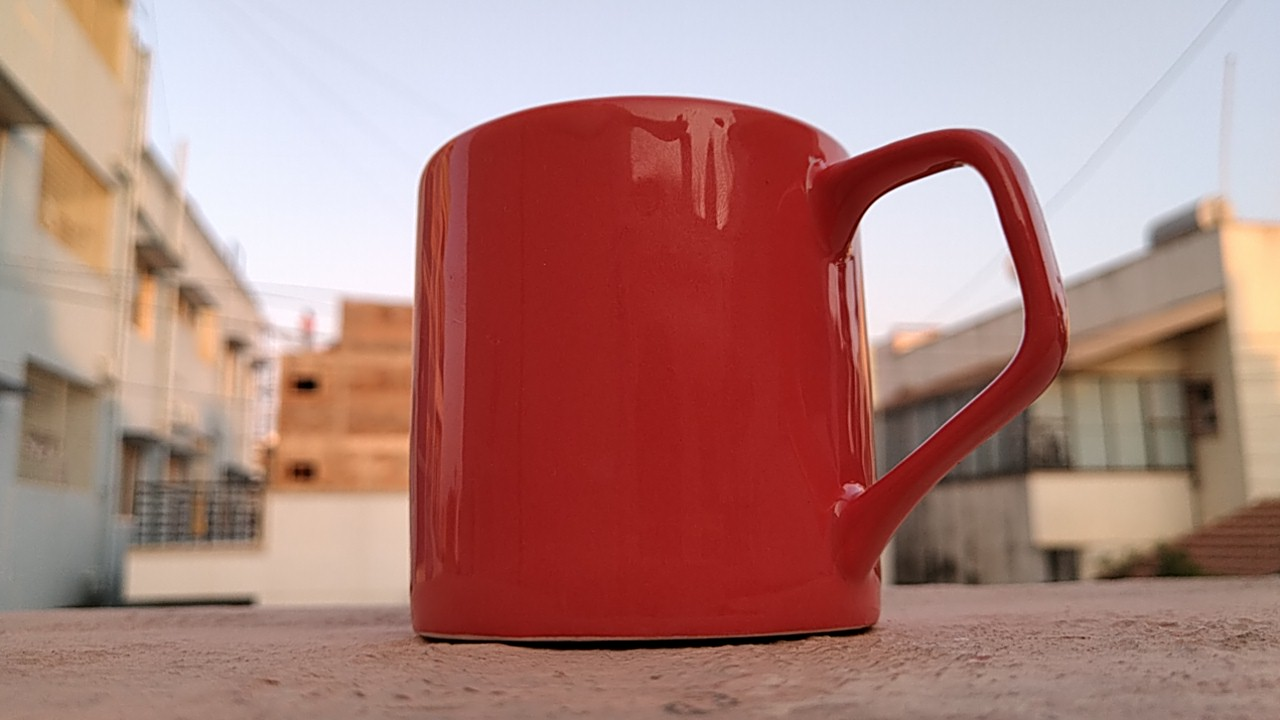cup: (385, 84, 1077, 653)
